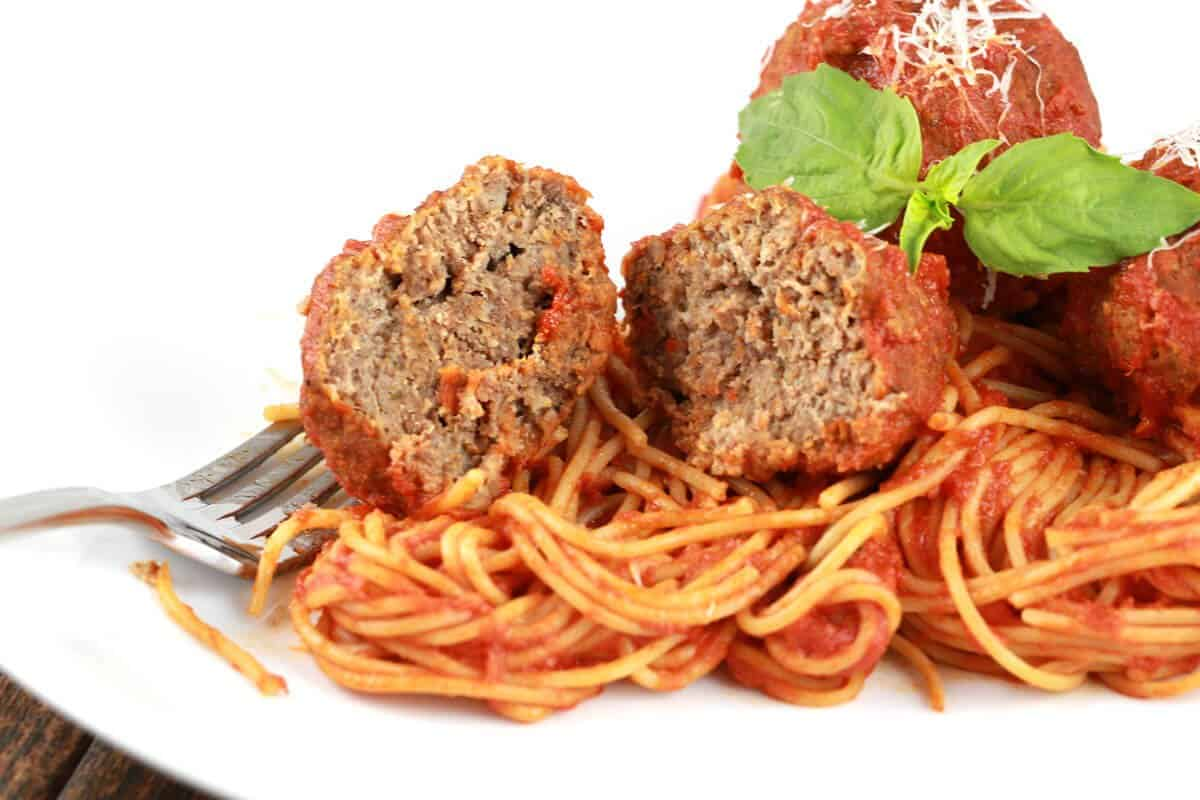meatballs: (799, 3, 1200, 351), (290, 218, 623, 484), (663, 190, 917, 448)
plain spaghetti: (420, 530, 1148, 675)
